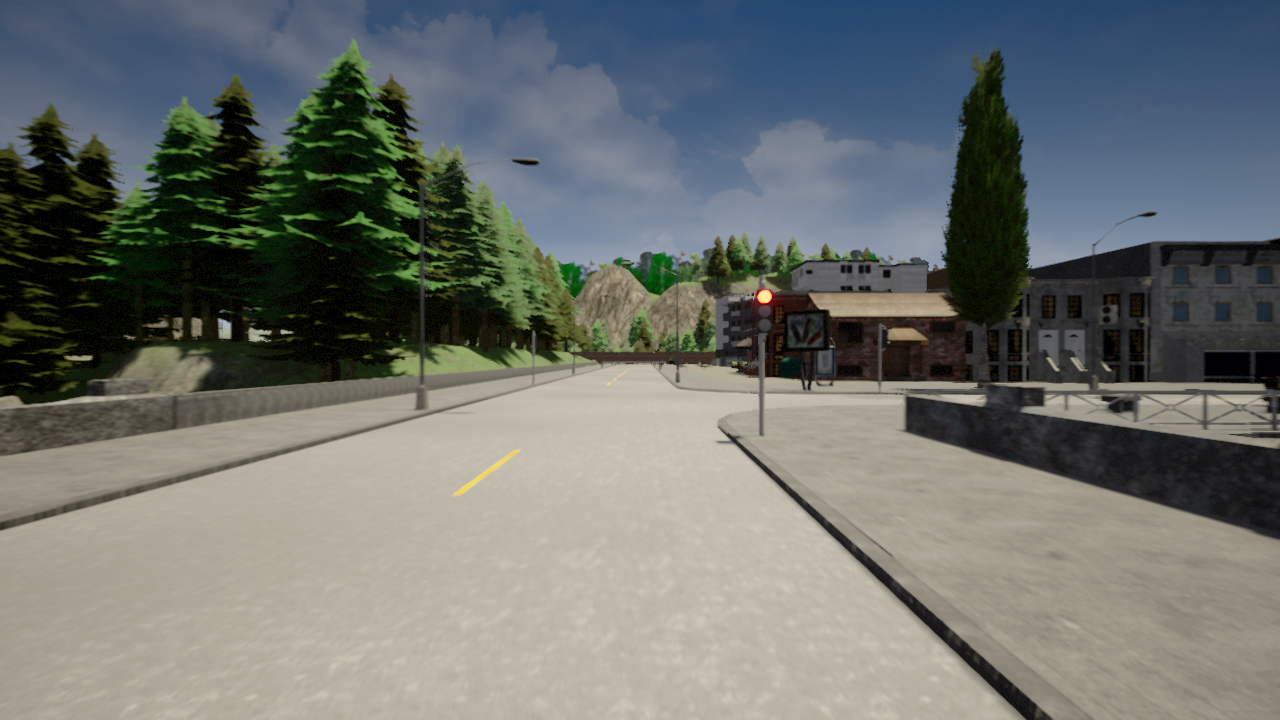red: (755, 287, 773, 334)
